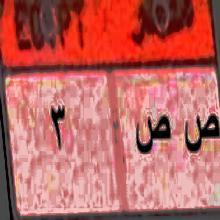3: (50, 96, 68, 150)
saad: (132, 106, 172, 159), (183, 107, 219, 161)
